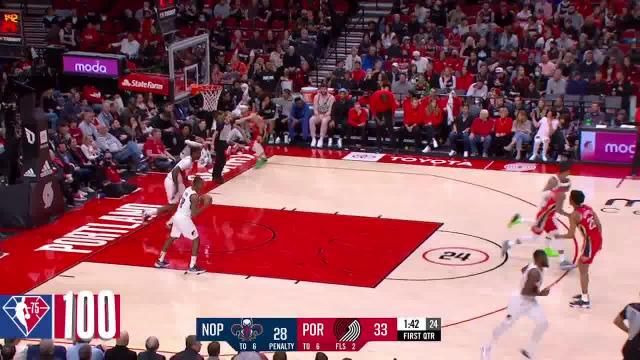ball-handler: (157, 173, 212, 276)
player: (498, 250, 550, 360), (522, 177, 575, 272), (565, 188, 605, 304), (152, 145, 201, 222), (238, 104, 268, 168)
